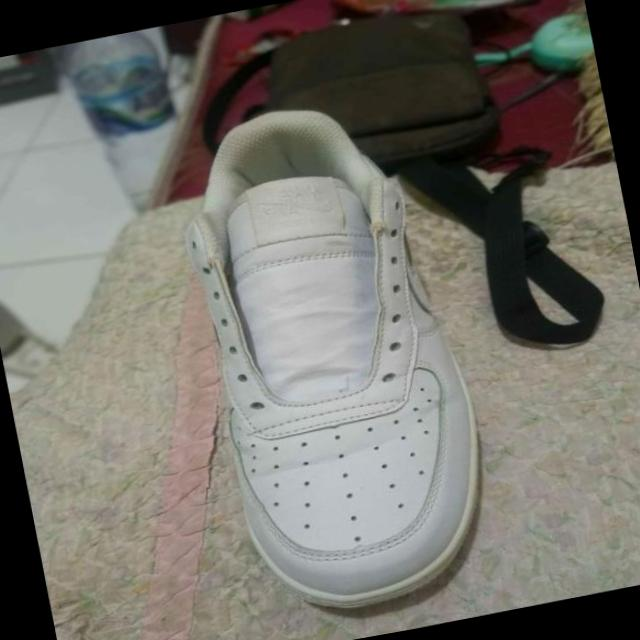nike_fake_airforce: (146, 82, 514, 637)
